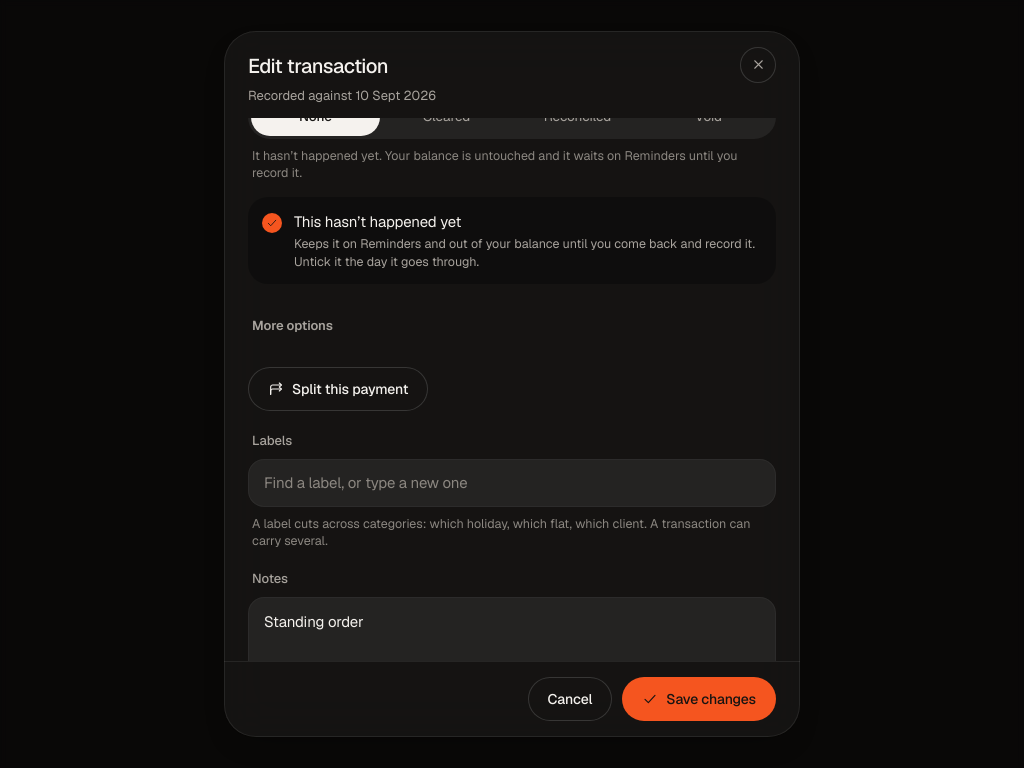
splitting a payment that already exists › offers categories, because filing it differently is an ordinary edit
(page scrolled)
Click the button "Split this payment": (338, 389) [248,367,428,411]
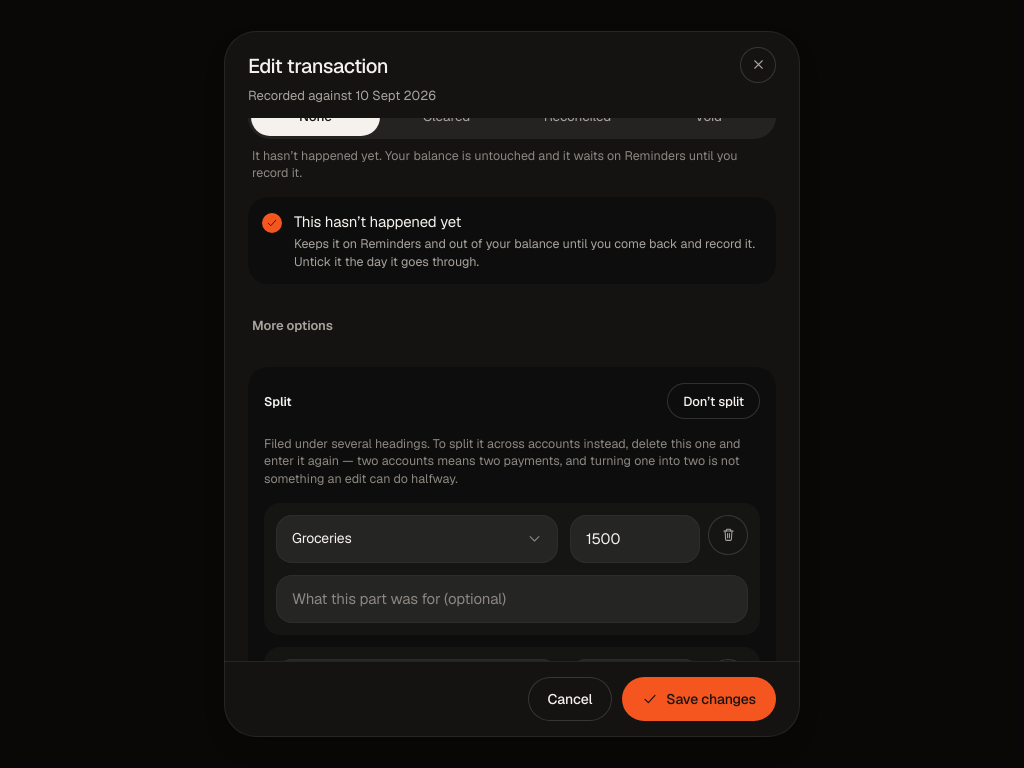
Result: the field named "Part 1 amount" is shown at [570,515,700,563]
